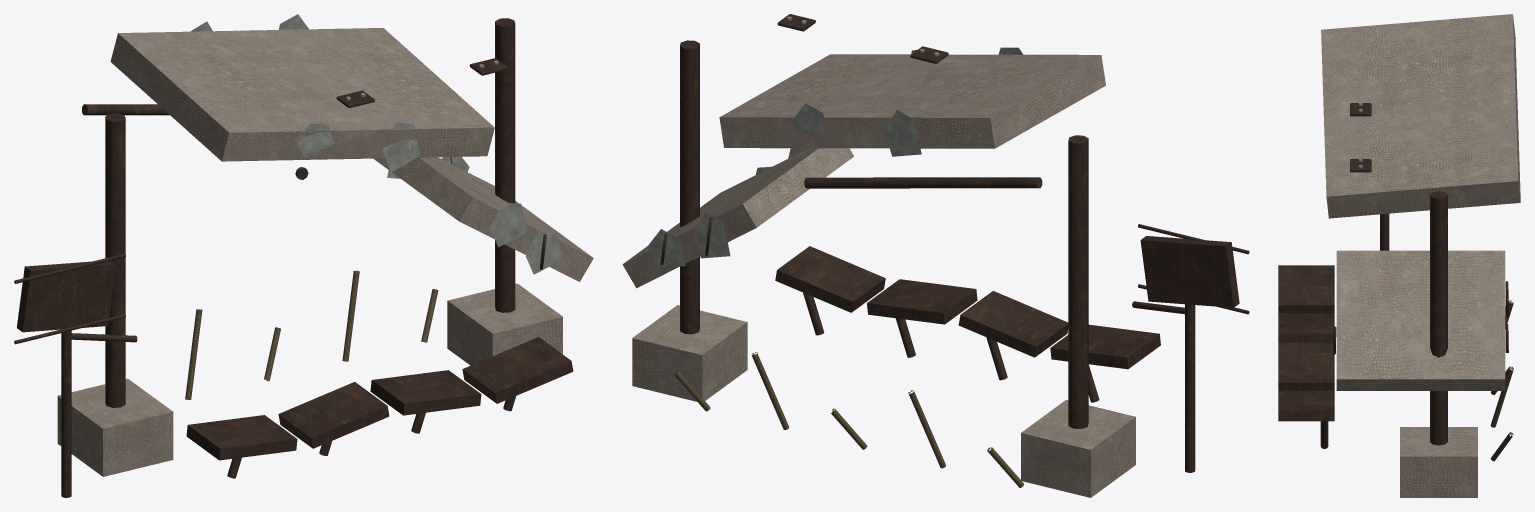
Rendered from f3_native_abandonedTransitStop.glb.
The picture shows the model from 3 angles, left to right: view 1: azimuth 30°, elevation 25°; view 2: azimuth 150°, elevation 25°; view 3: azimuth 270°, elevation 25°; orthographic projection. The views are drawn at different scales.
Visible parts, largest first — view 1: f3_weathered_concrete_surface, f3_oxidized_iron_surface, f3_exposed_aggregate_surface, f3_native_bark_surface; view 2: f3_weathered_concrete_surface, f3_oxidized_iron_surface, f3_exposed_aggregate_surface, f3_native_bark_surface; view 3: f3_weathered_concrete_surface, f3_oxidized_iron_surface, f3_native_bark_surface.
Part boxes in pixels (x1,y1,x2,y2): f3_weathered_concrete_surface: [57, 28, 593, 476]; f3_oxidized_iron_surface: [14, 18, 573, 497]; f3_exposed_aggregate_surface: [190, 14, 563, 274]; f3_native_bark_surface: [185, 270, 438, 399]; f3_weathered_concrete_surface: [622, 54, 1135, 497]; f3_oxidized_iron_surface: [660, 14, 1249, 472]; f3_exposed_aggregate_surface: [648, 47, 1023, 266]; f3_native_bark_surface: [673, 352, 1023, 487]; f3_weathered_concrete_surface: [1321, 14, 1520, 497]; f3_oxidized_iron_surface: [1278, 103, 1508, 448]; f3_native_bark_surface: [1490, 300, 1513, 461].
Size of the model in its own units: 4.63 by 2.98 by 2.01.
6 materials, 6 textured.
